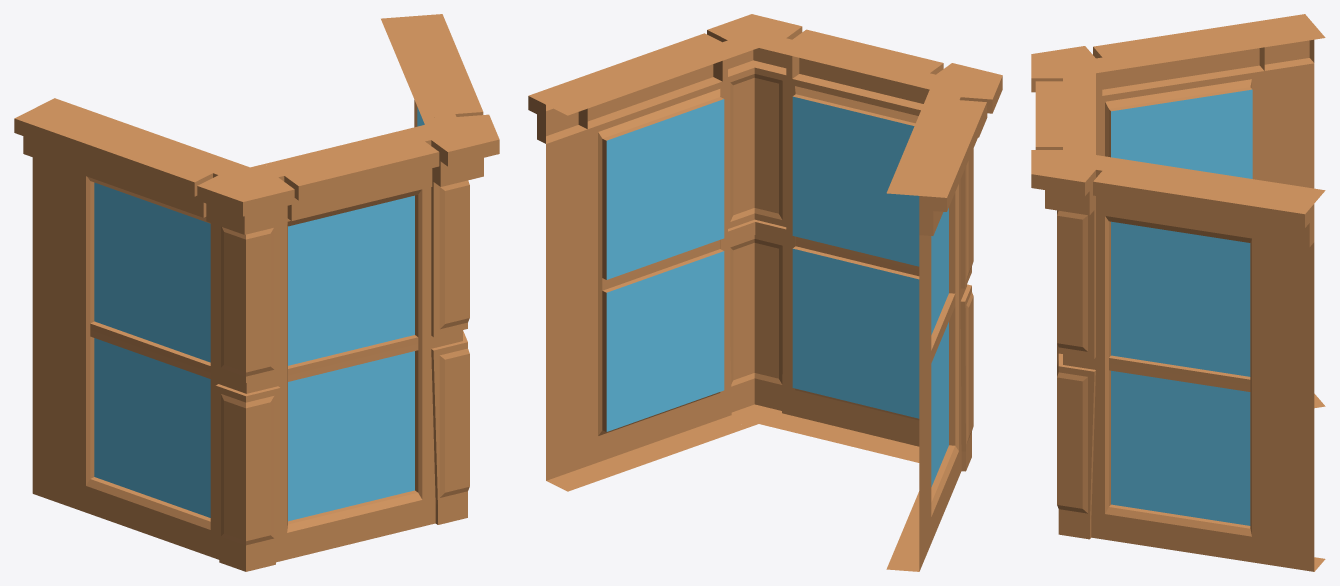
Rendered from WindowTower.fbx.
3 views of the same model, side by side, from view 1: azimuth 30°, elevation 25°; view 2: azimuth 150°, elevation 25°; view 3: azimuth 270°, elevation 25° (orthographic). The views are drawn at different scales.
Parts seen in each view (by area): view 1: WindowTower; view 2: WindowTower; view 3: WindowTower.
Boxes of the visible parts, box(x1,y1,x2,y2) form: WindowTower: box(14, 14, 499, 571); WindowTower: box(528, 14, 1002, 571); WindowTower: box(1031, 14, 1325, 571).
Size of the model in its own units: 3.03 by 1.89 by 2.6.
